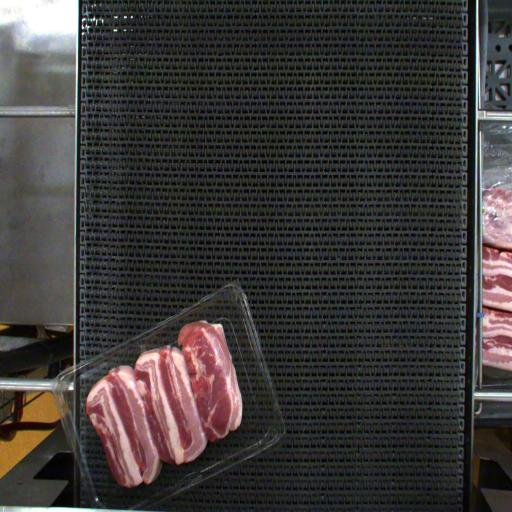packaging-error: (138, 343, 148, 354)
